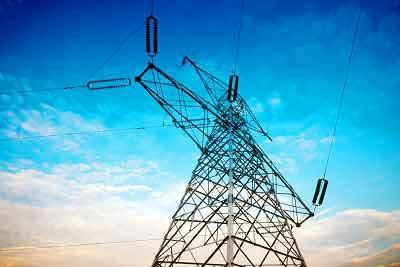power_tower: (135, 46, 316, 267)
